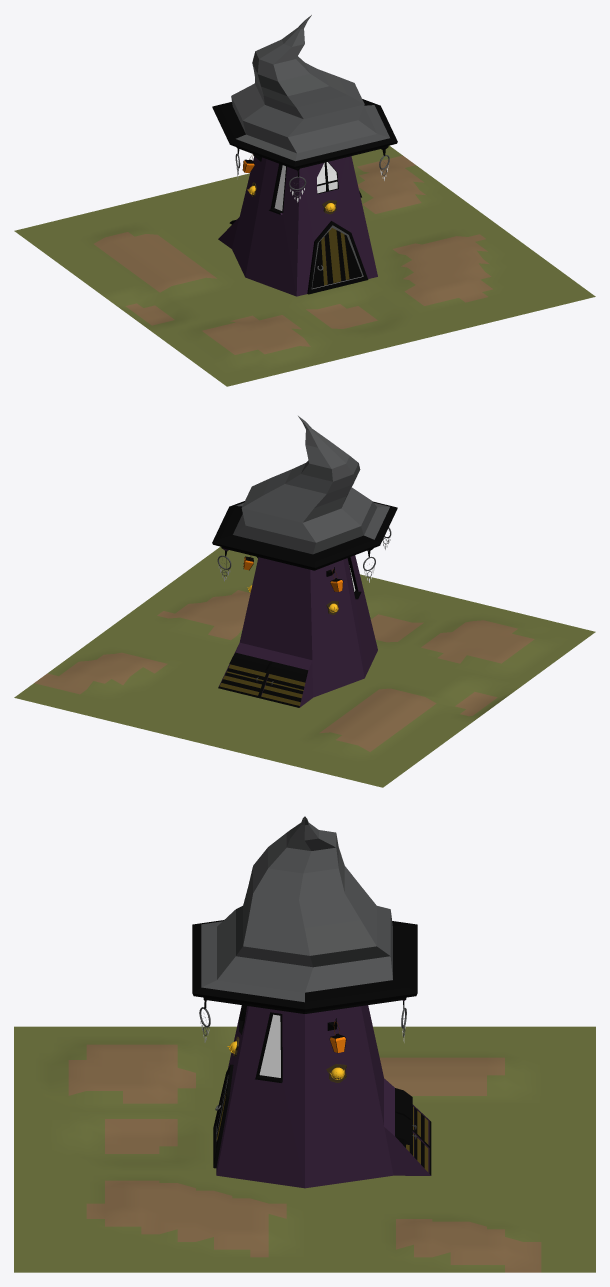
Rendered from Witch House.fbx.
3 renders of one model, top to bottom at view 1: azimuth 30°, elevation 25°; view 2: azimuth 150°, elevation 25°; view 3: azimuth 270°, elevation 25°, orthographic. The views are drawn at different scales.
Visible parts, largest first — view 1: Witches Hut; view 2: Witches Hut; view 3: Witches Hut.
Boxes of the visible parts, x1,y1,x2,y2 form: Witches Hut: (14, 15, 595, 386); Witches Hut: (14, 416, 595, 787); Witches Hut: (14, 816, 595, 1272).
Size of the model in its own units: 1005 by 658 by 1005.
